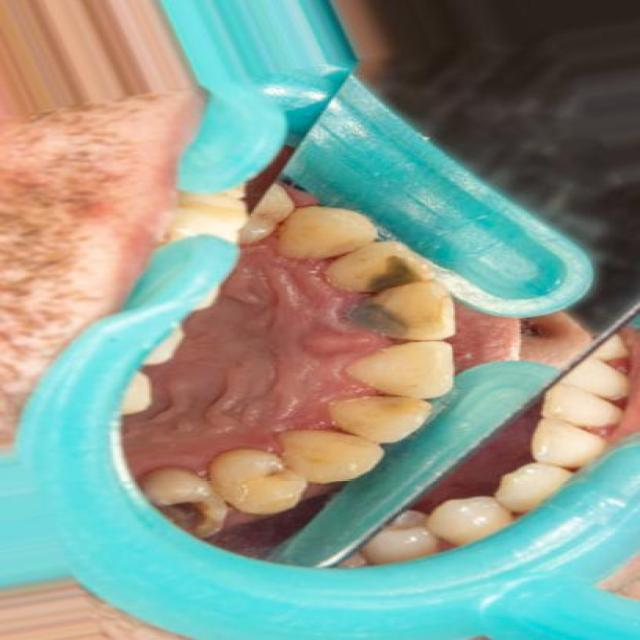caries: (344, 246, 434, 302), (336, 295, 422, 350), (150, 483, 217, 538)
